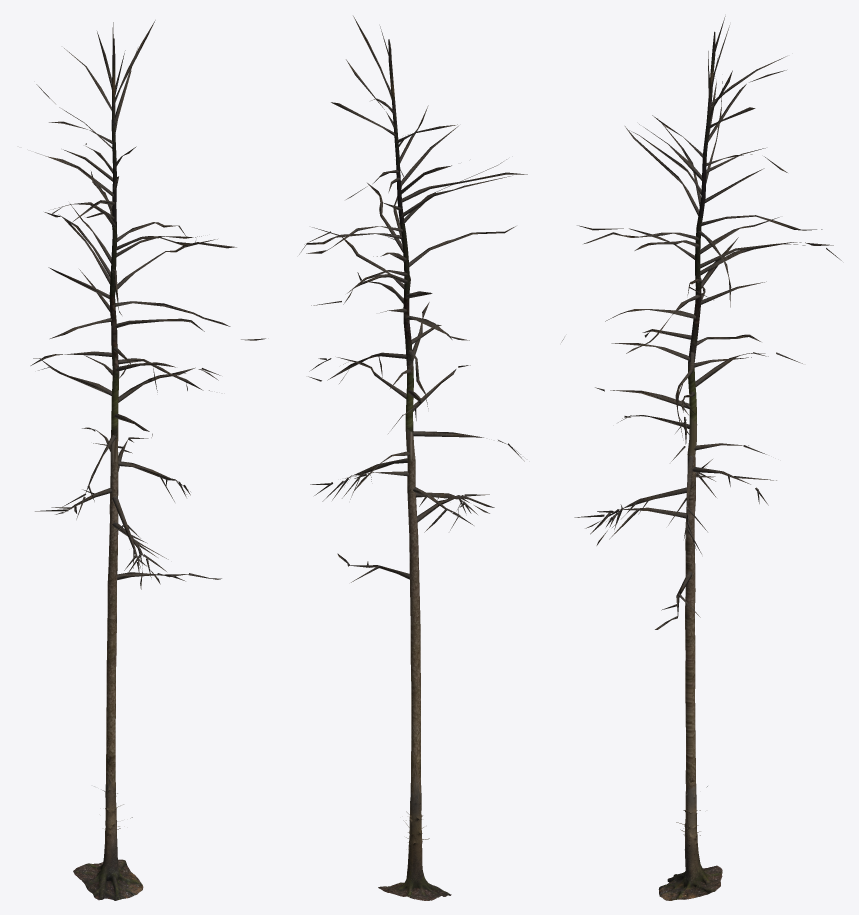
Rendered from pine-wood-high.glb.
3 views of the same model, side by side, from view 1: azimuth 30°, elevation 25°; view 2: azimuth 150°, elevation 25°; view 3: azimuth 270°, elevation 25° (orthographic). The views are drawn at different scales.
Parts seen in each view (by area): view 1: greyvale-pine; view 2: greyvale-pine; view 3: greyvale-pine.
Part boxes in pixels (x1,y1,x2,y2): greyvale-pine: [30, 20, 265, 900]; greyvale-pine: [299, 16, 527, 900]; greyvale-pine: [561, 16, 841, 900].
Size of the model in its own units: 4.34 by 17.95 by 5.23.
Materials: 2 (2 with a texture image).
